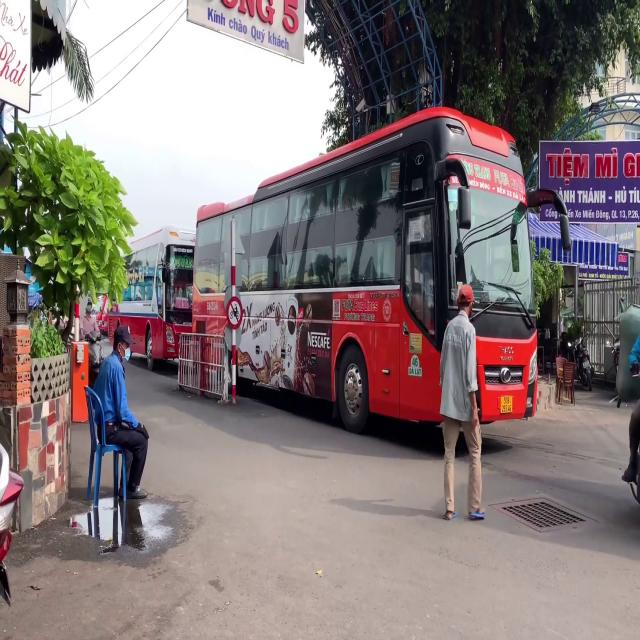bien_vang: (500, 395, 513, 414)
